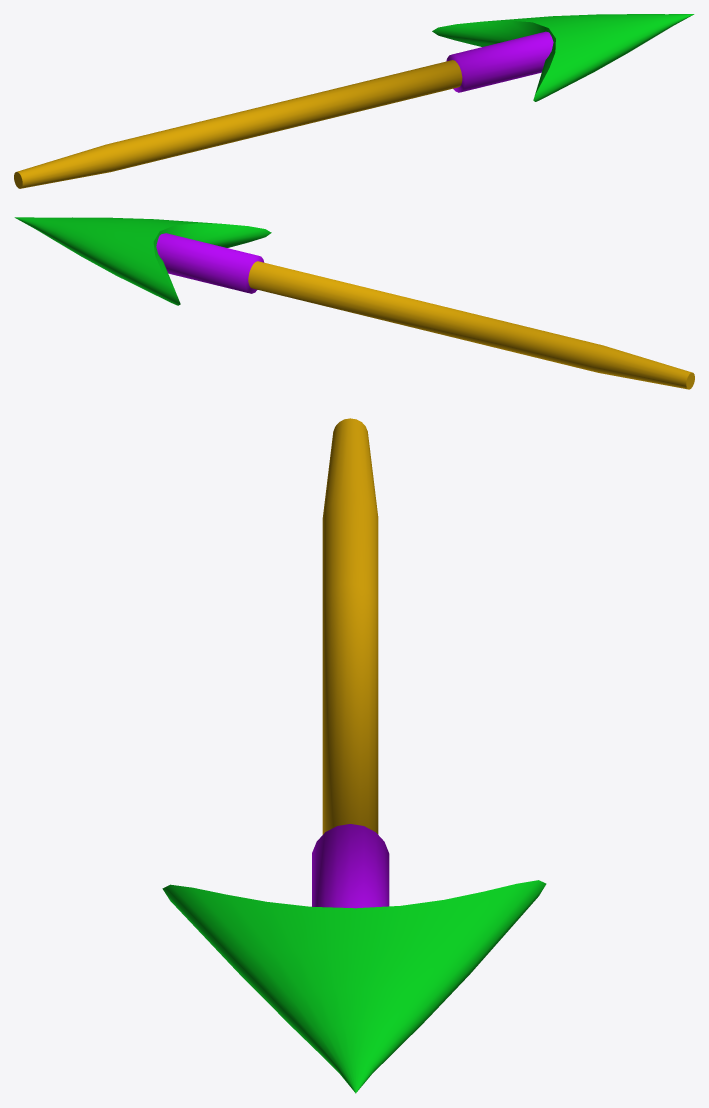
File: arrow.FBX
3 views of the same model, one above another, from view 1: azimuth 30°, elevation 25°; view 2: azimuth 150°, elevation 25°; view 3: azimuth 270°, elevation 25° (orthographic). The views are drawn at different scales.
Visible parts, largest first — view 1: Cylinder001, Cone001; view 2: Cylinder001, Cone001; view 3: Cone001, Cylinder001.
Part boxes in pixels (x1,y1,x2,y2): Cylinder001: (14,31,553,188); Cone001: (432,14,694,101); Cylinder001: (156,233,694,389); Cone001: (14,217,271,305); Cone001: (162,880,546,1093); Cylinder001: (312,418,389,908).
Size of the model in its own units: 108 by 6.51 by 26.57.
